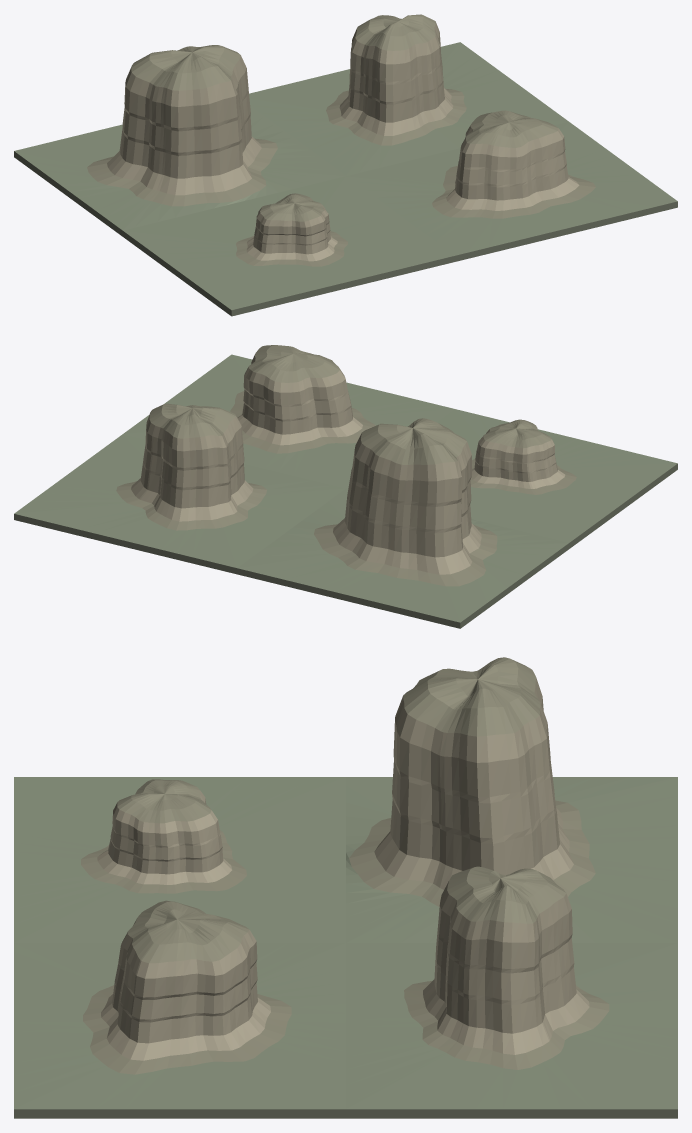
File: tower-karst.glb
3 views of the same model, one above another, from view 1: azimuth 30°, elevation 25°; view 2: azimuth 150°, elevation 25°; view 3: azimuth 270°, elevation 25° (orthographic). The views are drawn at different scales.
Parts seen in each view (by area): view 1: fenglin_tower_1_integrated_plain_quadrant, fenglin_tower_3_integrated_plain_quadrant, fenglin_tower_4_integrated_plain_quadrant, fenglin_tower_2_integrated_plain_quadrant; view 2: fenglin_tower_1_integrated_plain_quadrant, fenglin_tower_2_integrated_plain_quadrant, fenglin_tower_3_integrated_plain_quadrant, fenglin_tower_4_integrated_plain_quadrant; view 3: fenglin_tower_2_integrated_plain_quadrant, fenglin_tower_3_integrated_plain_quadrant, fenglin_tower_1_integrated_plain_quadrant, fenglin_tower_4_integrated_plain_quadrant.
Part boxes in pixels (<box>): fenglin_tower_1_integrated_plain_quadrant: <box>14,45,345,236</box>; fenglin_tower_3_integrated_plain_quadrant: <box>346,110,677,261</box>; fenglin_tower_4_integrated_plain_quadrant: <box>122,176,454,316</box>; fenglin_tower_2_integrated_plain_quadrant: <box>249,14,568,175</box>; fenglin_tower_1_integrated_plain_quadrant: <box>237,418,569,628</box>; fenglin_tower_2_integrated_plain_quadrant: <box>14,403,345,574</box>; fenglin_tower_3_integrated_plain_quadrant: <box>123,345,453,488</box>; fenglin_tower_4_integrated_plain_quadrant: <box>346,409,677,548</box>; fenglin_tower_2_integrated_plain_quadrant: <box>346,866,677,1118</box>; fenglin_tower_3_integrated_plain_quadrant: <box>14,900,345,1118</box>; fenglin_tower_1_integrated_plain_quadrant: <box>346,657,677,942</box>; fenglin_tower_4_integrated_plain_quadrant: <box>14,777,345,942</box>.
Bounding box in the file's own units: 900 × 245 × 760.
